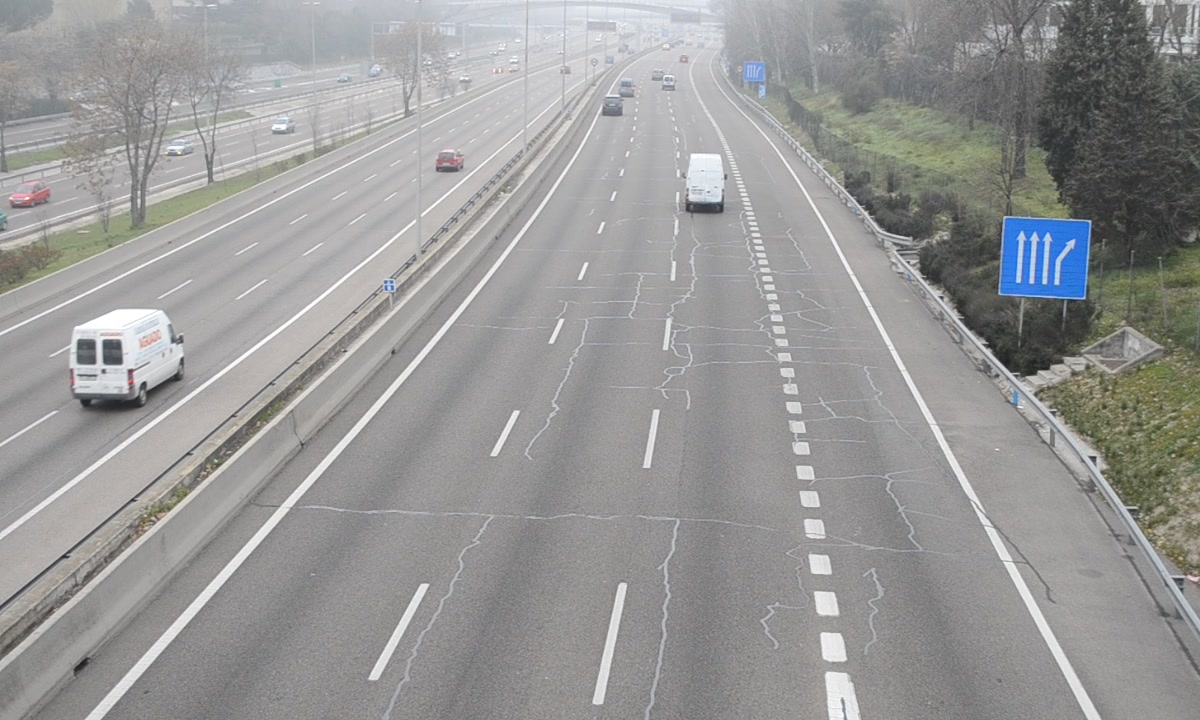car: (603, 93, 625, 115)
van: (684, 153, 726, 211)
